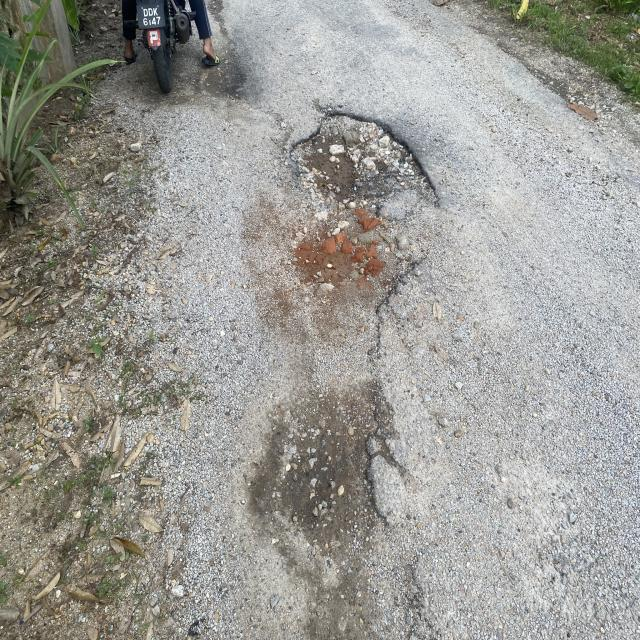Pothole: (211, 344, 459, 566), (271, 60, 460, 301)
